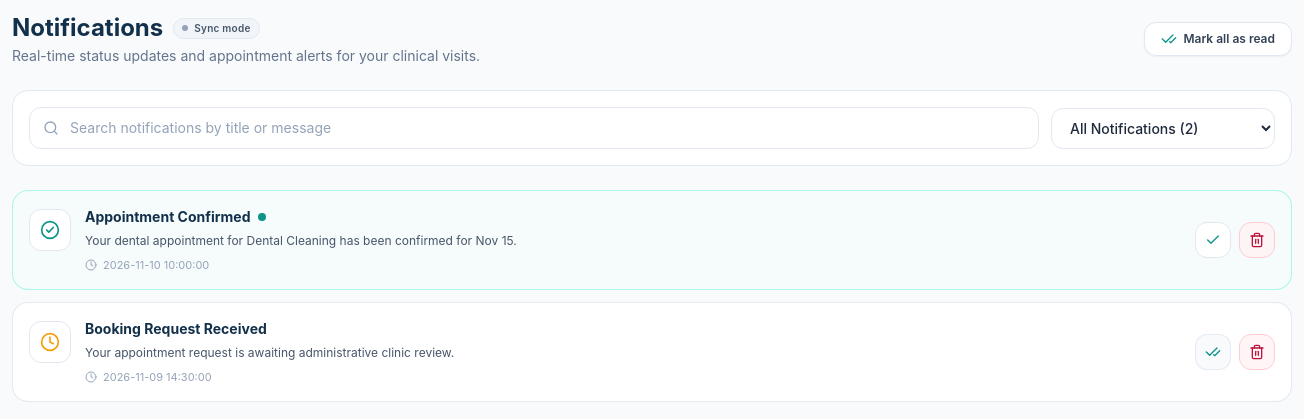
it: PatientNotificationsPage Component › filters notifications by unread dropdown option
Expected: the heading "Appointment Confirmed" is shown, [85,207,250,227]
Select "Unread (1)" in the dropdown named "Filter notifications" at (1163, 128), box [1051,108,1275,148]
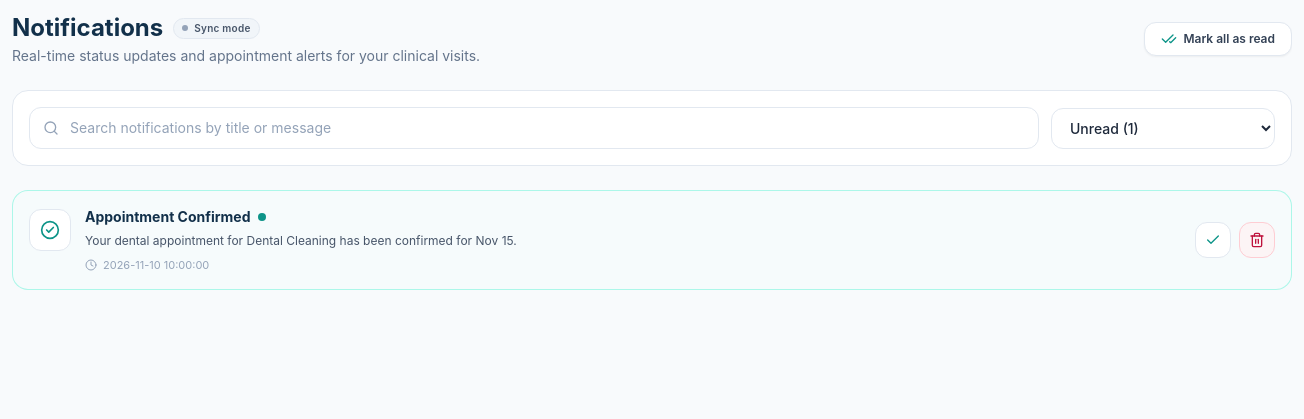
Expected: the heading "Appointment Confirmed" is shown, [85,207,250,227]
Now the heading "Booking Request Received" is gone
